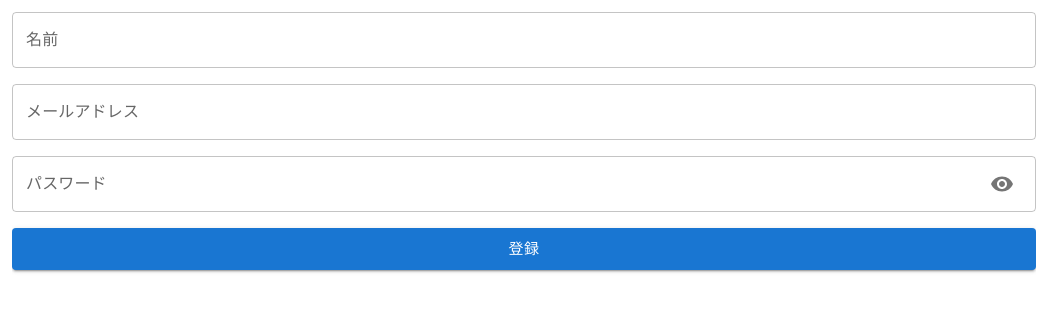
Test: onBlurでバリデーションを実行する › メールアドレスは必須入力 › 入力していない場合 › エラーメッセージが表示されること
The width and height of the screenshot is (1048, 313).
Click the field labelled "メールアドレス" at point(524, 112), box [12,84,1036,140]
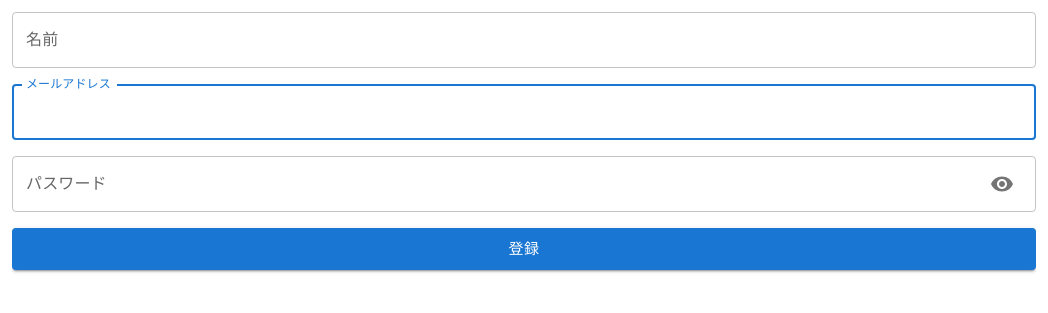
Press Tab
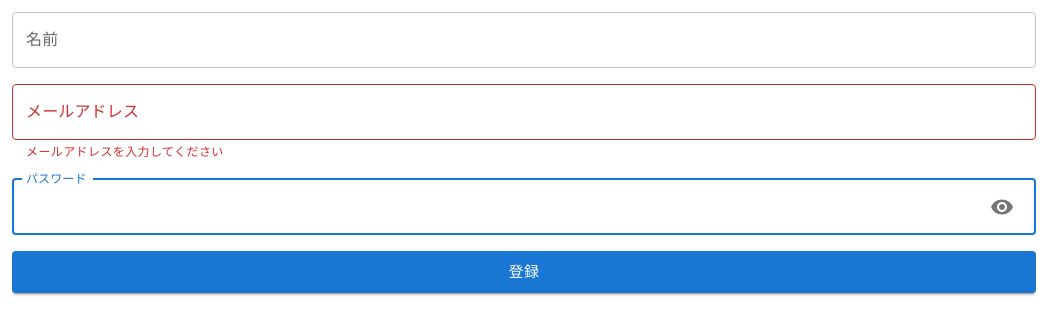
Check: the text "メールアドレスを入力してください" is shown, box [26,145,224,159]
